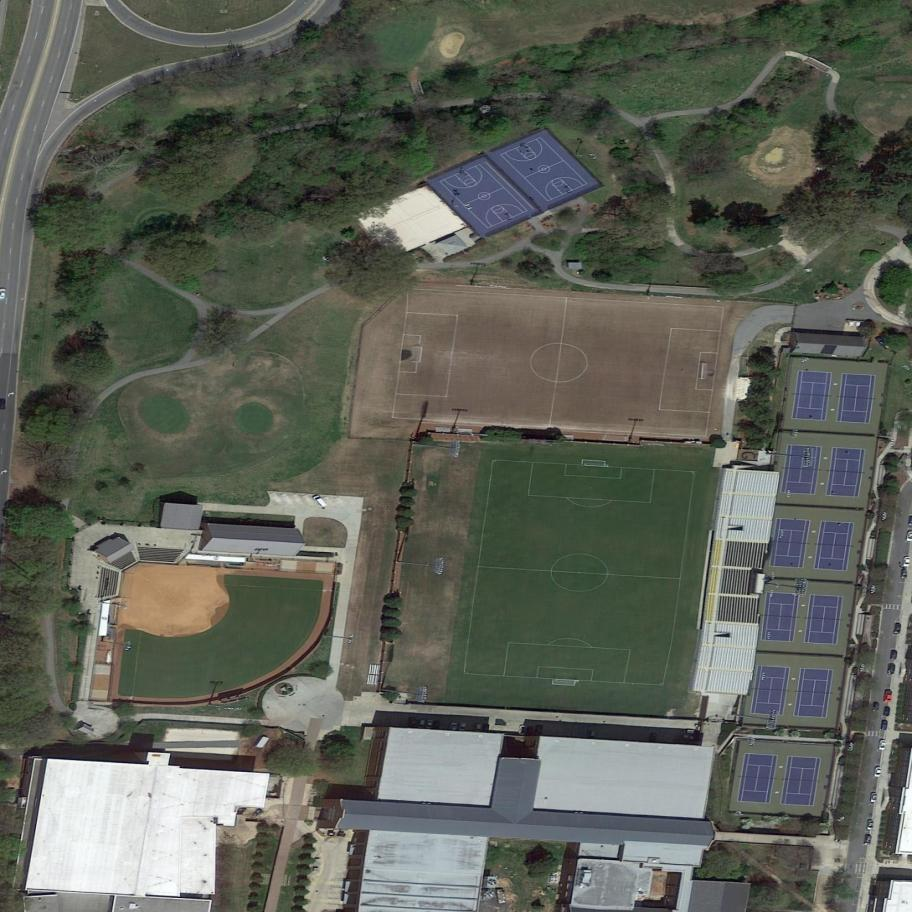small-vehicle: (311, 492, 329, 510), (884, 690, 894, 704), (682, 733, 697, 742), (873, 766, 884, 778), (893, 622, 903, 635), (889, 649, 899, 662), (863, 834, 873, 847), (518, 724, 528, 737), (887, 663, 896, 676), (866, 819, 875, 832), (870, 791, 879, 803), (883, 706, 892, 718), (880, 720, 889, 732), (878, 739, 887, 751), (649, 733, 658, 745), (457, 722, 466, 733), (872, 702, 881, 713), (534, 725, 543, 736), (900, 570, 909, 580), (682, 729, 697, 735), (450, 722, 458, 733), (904, 556, 911, 568), (433, 721, 441, 731), (410, 717, 417, 728), (589, 730, 596, 740), (527, 726, 534, 736), (426, 720, 433, 729), (419, 720, 426, 729), (475, 724, 482, 733), (482, 725, 489, 734)
